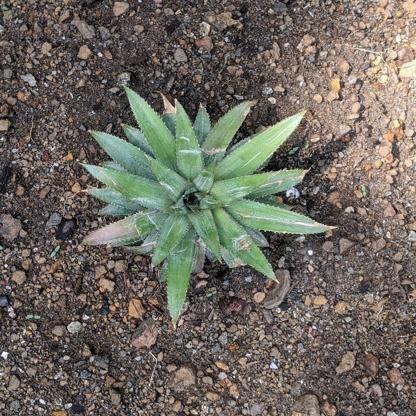pineapple: (76, 81, 338, 325)
